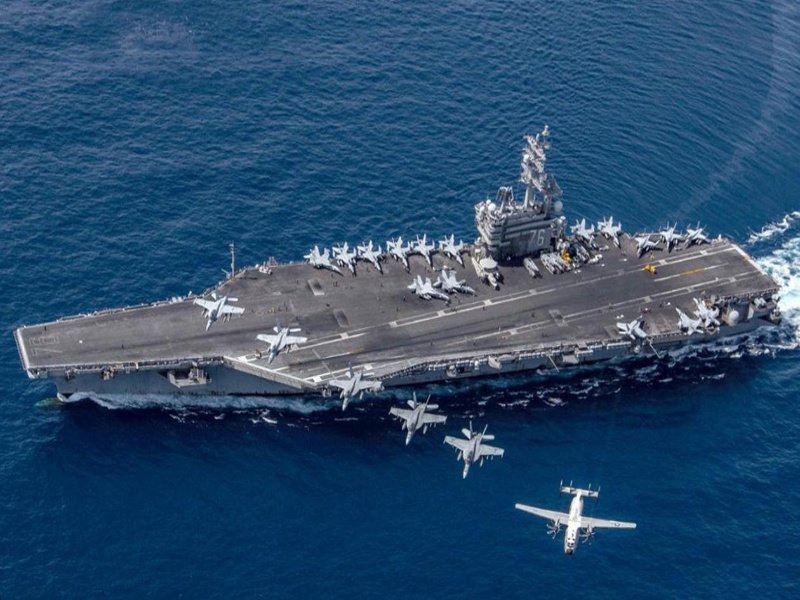carrier: (36, 153, 780, 411)
